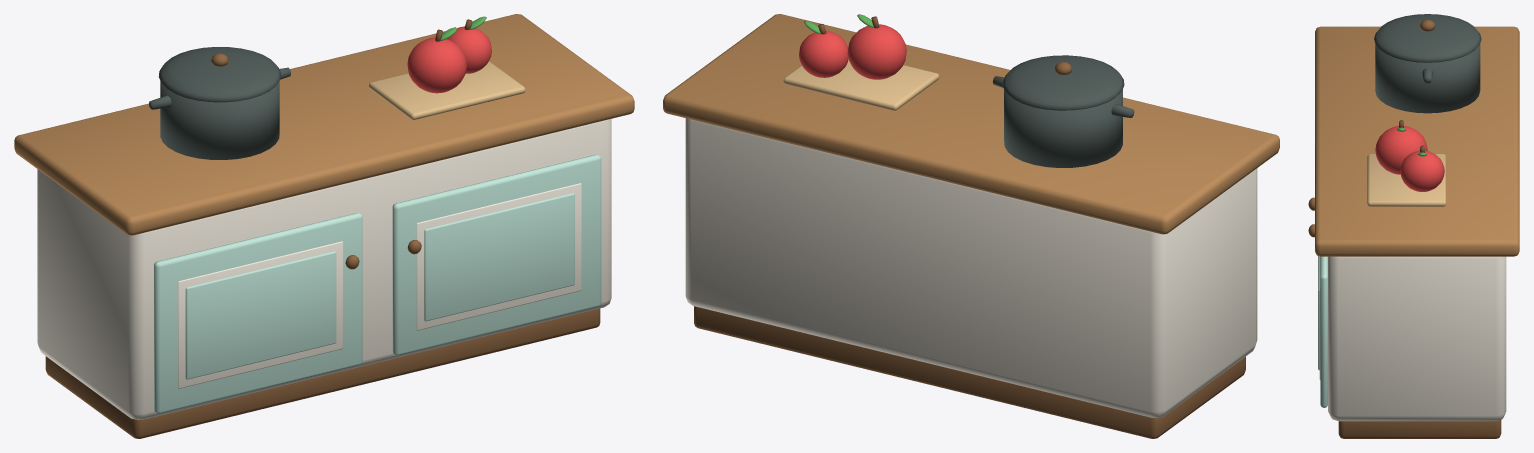
File: kitchen-counter.glb
3 renders of one model, left to right at view 1: azimuth 30°, elevation 25°; view 2: azimuth 150°, elevation 25°; view 3: azimuth 270°, elevation 25°, orthographic. The views are drawn at different scales.
Visible parts, largest first — view 1: counter, things; view 2: counter, things; view 3: counter, things.
Boxes of the visible parts, x1,y1,x2,y2 form: counter: [14, 14, 634, 438]; things: [149, 16, 525, 159]; counter: [663, 14, 1279, 438]; things: [783, 14, 1134, 167]; counter: [1308, 26, 1519, 438]; things: [1367, 14, 1481, 206].
Bounding box in the file's own units: 1.96 × 1.17 × 0.805.
